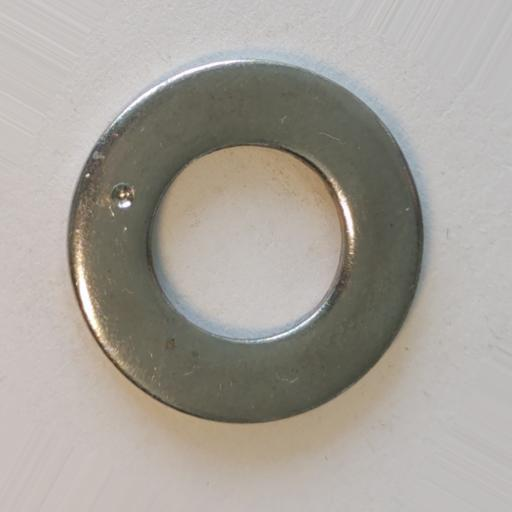circular_cavity: (110, 183, 135, 209)
